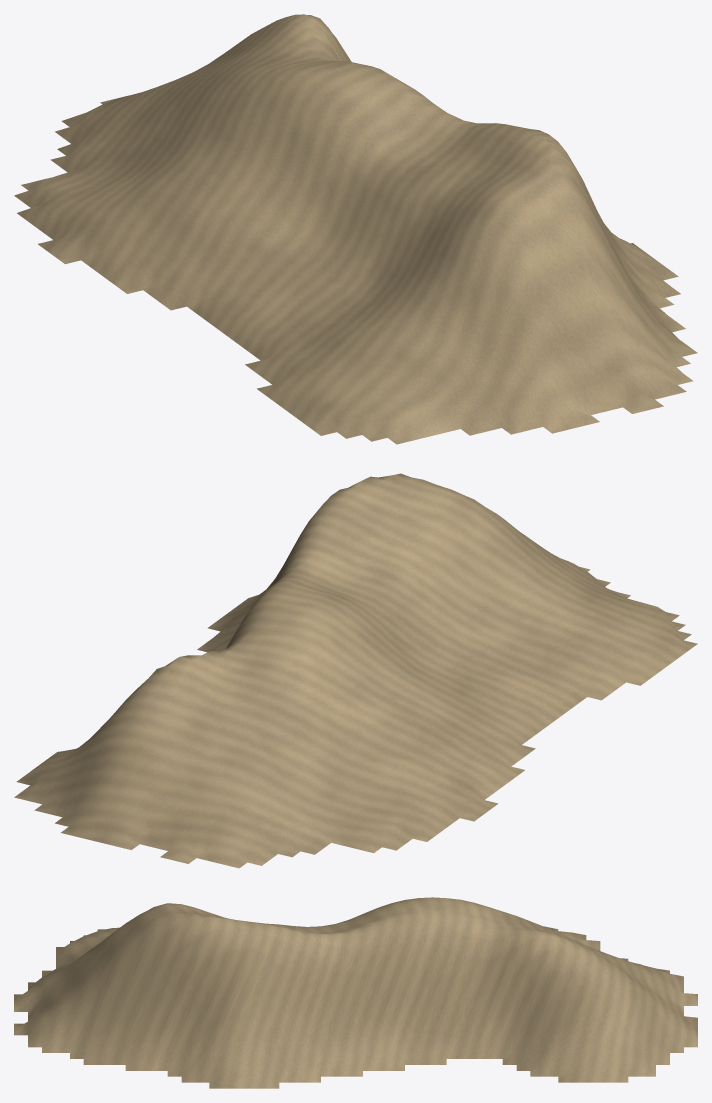
The model's file is border_dune_b_v5_autumn.glb.
3 views of the same model, one above another, from view 1: azimuth 30°, elevation 25°; view 2: azimuth 150°, elevation 25°; view 3: azimuth 270°, elevation 25° (orthographic). The views are drawn at different scales.
Visible parts, largest first — view 1: border_dune_b; view 2: border_dune_b; view 3: border_dune_b.
Boxes of the visible parts, x1=… form: border_dune_b: x1=14, y1=14, x2=697, y2=444; border_dune_b: x1=14, y1=473, x2=697, y2=868; border_dune_b: x1=14, y1=897, x2=697, y2=1088.
Size of the model in its own units: 0.5957 by 0.2078 by 1.04.
Materials: 1 (1 with a texture image).
